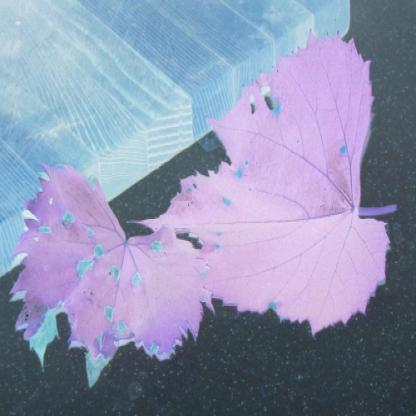grape leaf black rot: (150, 32, 396, 342), (1, 174, 203, 400)
